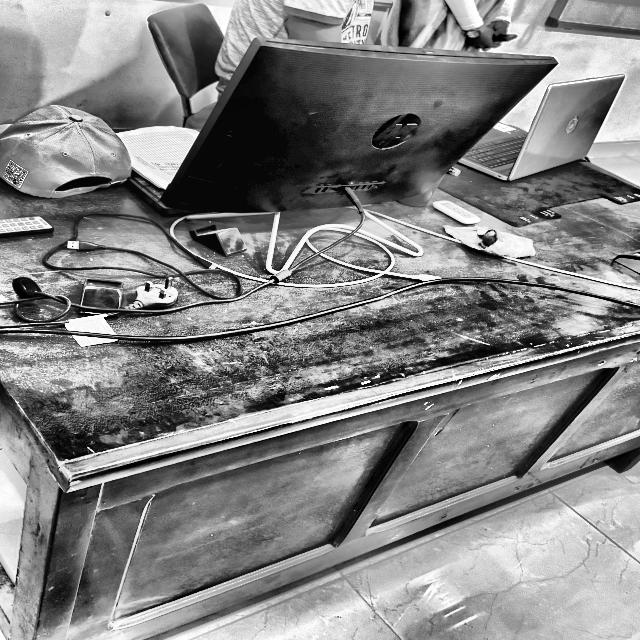laptop: (179, 31, 560, 215), (485, 64, 635, 182)
table: (0, 184, 640, 618)
